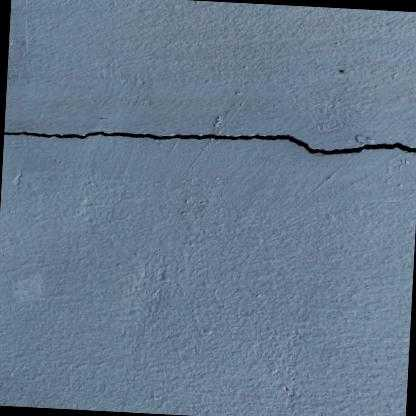crack: (4, 129, 416, 154)
